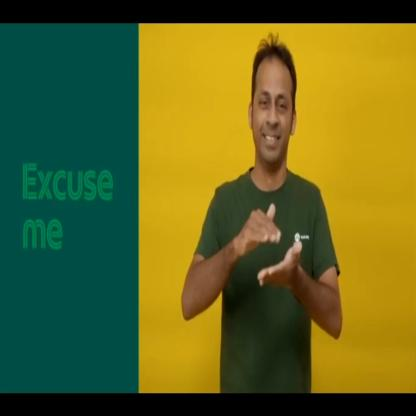ExcuseMe: (180, 35, 346, 400)
